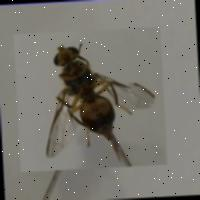Oriental-fruit-fly: (14, 26, 168, 172)
